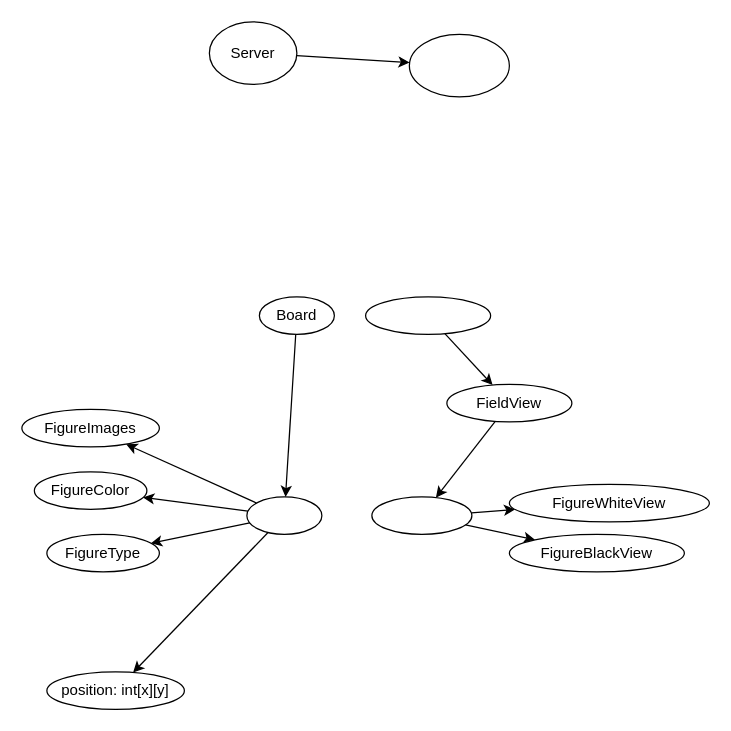
Image size: 731x731. Some labels were removed from this diagram. Each missing label, with the centre of its shape:
"BoardView" goes at (427,315).
"Client" goes at (458,65).
"Figure" goes at (284,515).
"FigureView" goes at (421,515).
